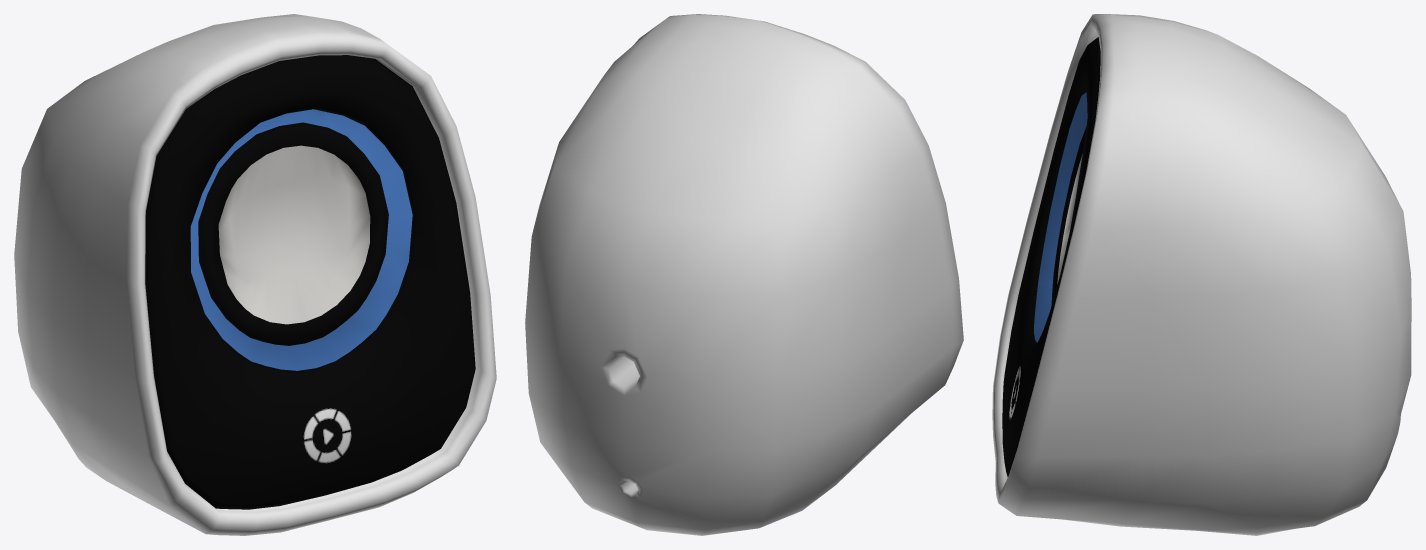
File: SpeakerFBX.fbx
The picture shows the model from 3 angles, left to right: view 1: azimuth 30°, elevation 25°; view 2: azimuth 150°, elevation 25°; view 3: azimuth 270°, elevation 25°; orthographic projection. The views are drawn at different scales.
Parts seen in each view (by area): view 1: Speaker.001; view 2: Speaker.001; view 3: Speaker.001.
Part boxes in pixels (left/top/right/bottom): Speaker.001: left=14, top=14, right=496, bottom=535; Speaker.001: left=525, top=14, right=963, bottom=535; Speaker.001: left=992, top=14, right=1411, bottom=535.
Size of the model in its own units: 188 by 235 by 198.
